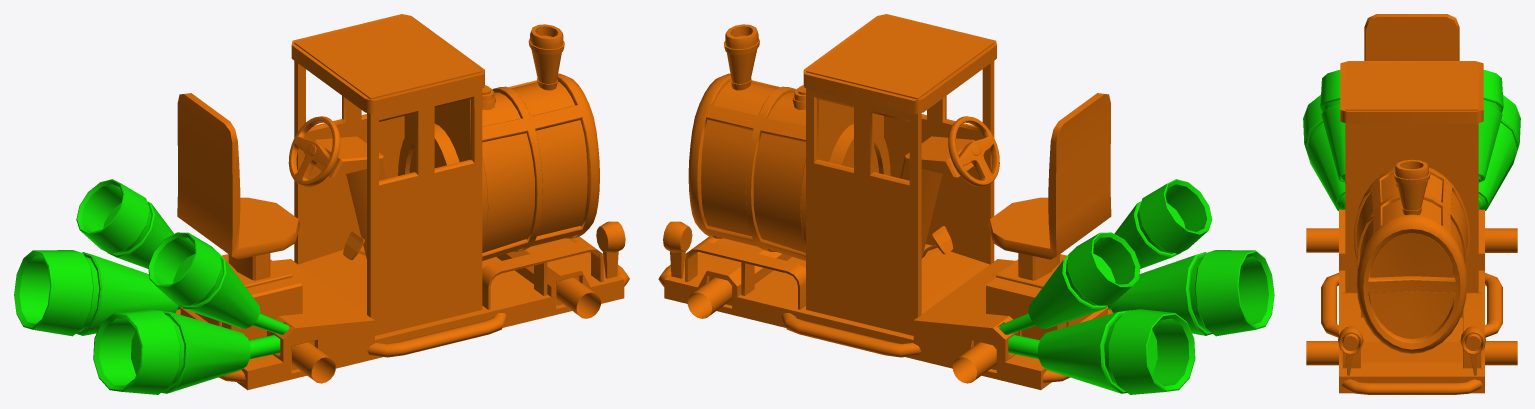
File: Train_Kart__Body_Mesh.fbx
3 views of the same model, side by side, from view 1: azimuth 30°, elevation 25°; view 2: azimuth 150°, elevation 25°; view 3: azimuth 270°, elevation 25° (orthographic). The views are drawn at different scales.
Visible parts, largest first — view 1: TC_Car; view 2: TC_Car; view 3: TC_Car.
Part boxes in pixels (x1=…): TC_Car: x1=14, y1=14, x2=629, y2=394; TC_Car: x1=658, y1=14, x2=1274, y2=394; TC_Car: x1=1303, y1=14, x2=1520, y2=394.
Size of the model in its own units: 119 by 294 by 136.
